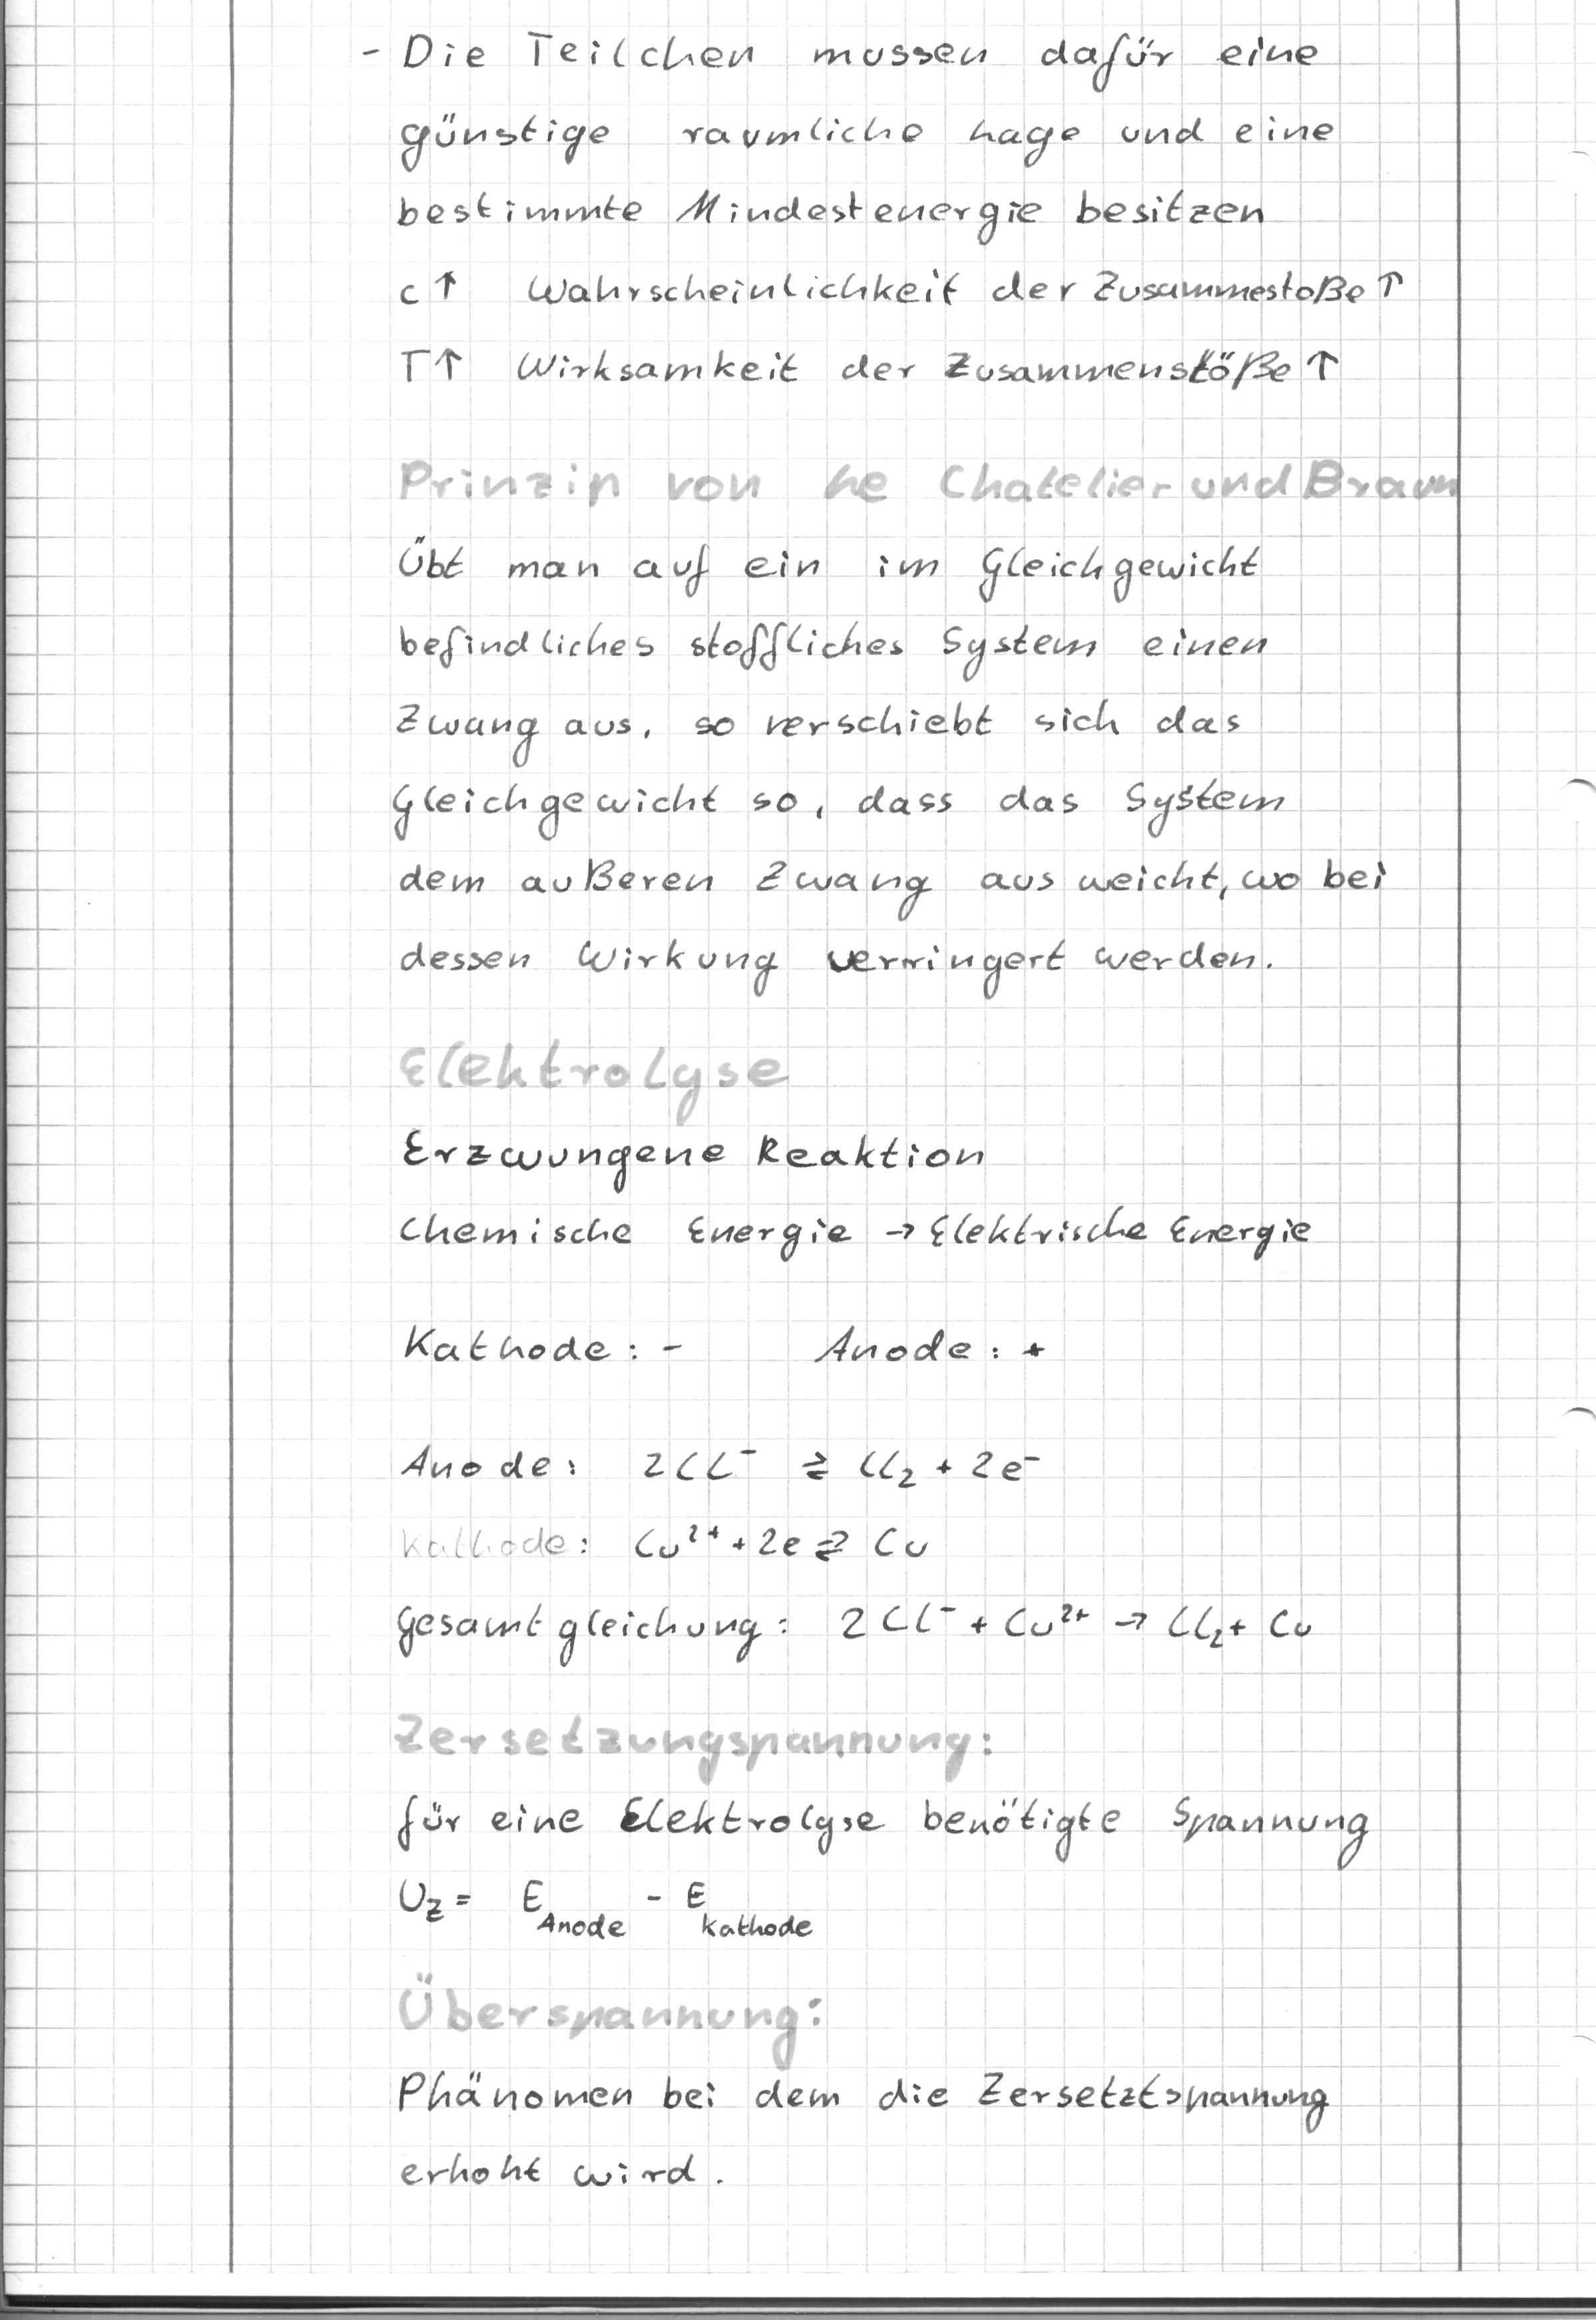word: (376, 522, 1393, 1015), (349, 19, 1423, 402), (388, 1780, 1383, 1950), (389, 1117, 1326, 1279), (388, 2053, 1336, 2213), (383, 1580, 1332, 1686), (385, 1303, 1074, 1394), (384, 1428, 1062, 1504), (611, 1508, 953, 1577)
